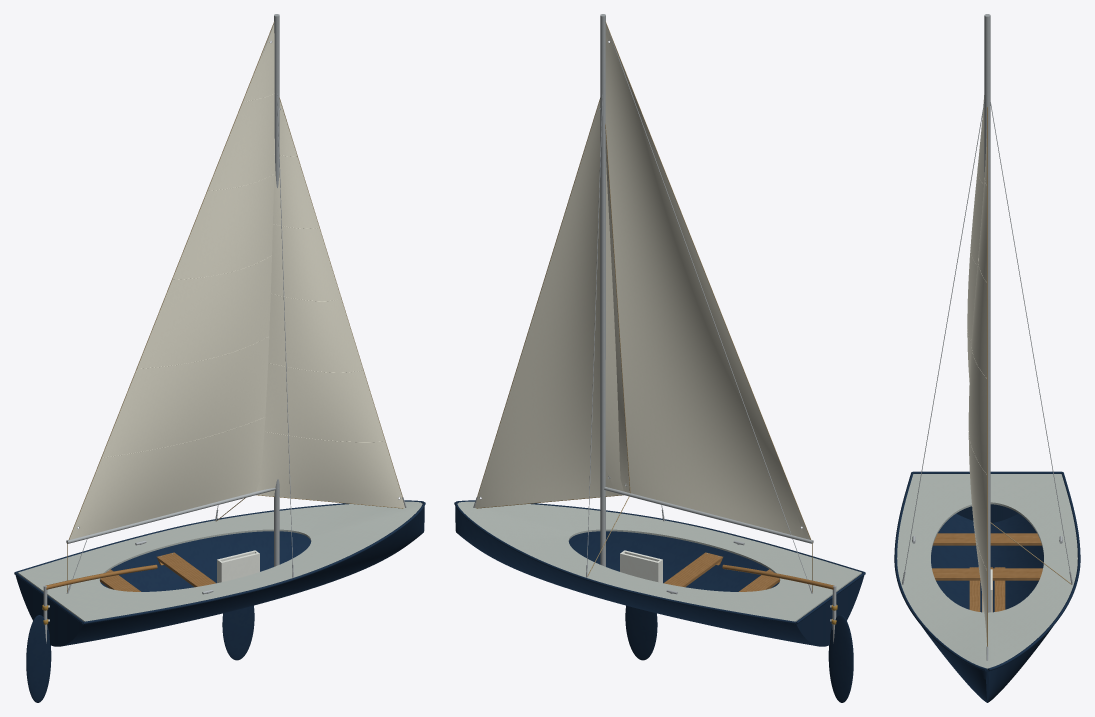
The model's file is innerscene_sailing_dinghy_4_2m.glb.
The picture shows the model from 3 angles, left to right: view 1: azimuth 30°, elevation 25°; view 2: azimuth 150°, elevation 25°; view 3: azimuth 270°, elevation 25°; orthographic projection. The views are drawn at different scales.
Visible parts, largest first — view 1: Dinghy sloop mainsail finite cambered cloth with punched eye, Dinghy sloop foresail finite cambered cloth with punched eye, Finite deck around open sailing cockpit, Original finite hollow hull, Finite rounded rudder blade, Dinghy sloop finite aluminium mast, Partially lowered rounded centreboard, Continuous gunwale -1, Finite bored centreboard trunk, Sailing thwart -420 fitted finite timber seat, Dinghy sloop attached boom, Continuous gunwale 1 (+1 smaller); view 2: Dinghy sloop mainsail finite cambered cloth with punched eye, Dinghy sloop foresail finite cambered cloth with punched eye, Finite deck around open sailing cockpit, Original finite hollow hull, Dinghy sloop finite aluminium mast, Finite rounded rudder blade, Partially lowered rounded centreboard, Continuous gunwale 1, Finite bored centreboard trunk, Dinghy sloop attached boom, Sailing thwart -420 fitted finite timber seat, Dinghy sloop tensioned backstay (+2 smaller); view 3: Finite deck around open sailing cockpit, Original finite hollow hull, Dinghy sloop foresail finite cambered cloth with punched eye, Dinghy sloop finite aluminium mast, Dinghy sloop mainsail finite cambered cloth with punched eye, Sailing thwart -420 fitted finite timber seat, Sailing thwart -1150 fitted finite timber seat, Continuous gunwale 1, Continuous gunwale -1, Dinghy sloop tensioned shroud 1, Dinghy sloop tensioned shroud 2, Dinghy sloop foresail attached luff boltrope (+3 smaller).
Boxes of the visible parts, left/top/right/bottom form: Dinghy sloop mainsail finite cambered cloth with punched eye: left=69, top=24, right=274, bottom=539; Dinghy sloop foresail finite cambered cloth with punched eye: left=256, top=99, right=404, bottom=507; Finite deck around open sailing cockpit: left=18, top=501, right=422, bottom=621; Original finite hollow hull: left=15, top=506, right=424, bottom=646; Finite rounded rudder blade: left=26, top=615, right=51, bottom=702; Dinghy sloop finite aluminium mast: left=274, top=14, right=279, bottom=566; Partially lowered rounded centreboard: left=222, top=605, right=254, bottom=660; Continuous gunwale -1: left=83, top=502, right=425, bottom=624; Finite bored centreboard trunk: left=217, top=550, right=259, bottom=582; Sailing thwart -420 fitted finite timber seat: left=157, top=552, right=215, bottom=587; Dinghy sloop attached boom: left=66, top=488, right=275, bottom=543; Continuous gunwale 1: left=16, top=500, right=423, bottom=573; Dinghy sloop mainsail finite cambered cloth with punched eye: left=605, top=24, right=810, bottom=539; Dinghy sloop foresail finite cambered cloth with punched eye: left=475, top=99, right=629, bottom=507; Finite deck around open sailing cockpit: left=457, top=501, right=861, bottom=621; Original finite hollow hull: left=455, top=506, right=864, bottom=646; Dinghy sloop finite aluminium mast: left=600, top=14, right=605, bottom=566; Finite rounded rudder blade: left=828, top=615, right=853, bottom=702; Partially lowered rounded centreboard: left=625, top=605, right=657, bottom=660; Continuous gunwale 1: left=454, top=502, right=796, bottom=624; Finite bored centreboard trunk: left=620, top=550, right=662, bottom=582; Dinghy sloop attached boom: left=604, top=487, right=813, bottom=543; Sailing thwart -420 fitted finite timber seat: left=664, top=552, right=722, bottom=587; Dinghy sloop tensioned backstay: left=605, top=22, right=807, bottom=579; Finite deck around open sailing cockpit: left=897, top=474, right=1077, bottom=668; Original finite hollow hull: left=922, top=504, right=1052, bottom=702; Dinghy sloop foresail finite cambered cloth with punched eye: left=968, top=130, right=986, bottom=642; Dinghy sloop finite aluminium mast: left=984, top=14, right=990, bottom=612; Dinghy sloop mainsail finite cambered cloth with punched eye: left=967, top=95, right=984, bottom=381; Sailing thwart -420 fitted finite timber seat: left=932, top=568, right=1042, bottom=580; Sailing thwart -1150 fitted finite timber seat: left=933, top=533, right=1041, bottom=545; Continuous gunwale 1: left=987, top=472, right=1080, bottom=671; Continuous gunwale -1: left=894, top=472, right=987, bottom=671; Dinghy sloop tensioned shroud 1: left=990, top=102, right=1070, bottom=571; Dinghy sloop tensioned shroud 2: left=904, top=102, right=984, bottom=571; Dinghy sloop foresail attached luff boltrope: left=987, top=107, right=987, bottom=646.
Size of the model in its own units: 4.47 by 6.81 by 1.64.
Materials: 10 (10 with a texture image).
